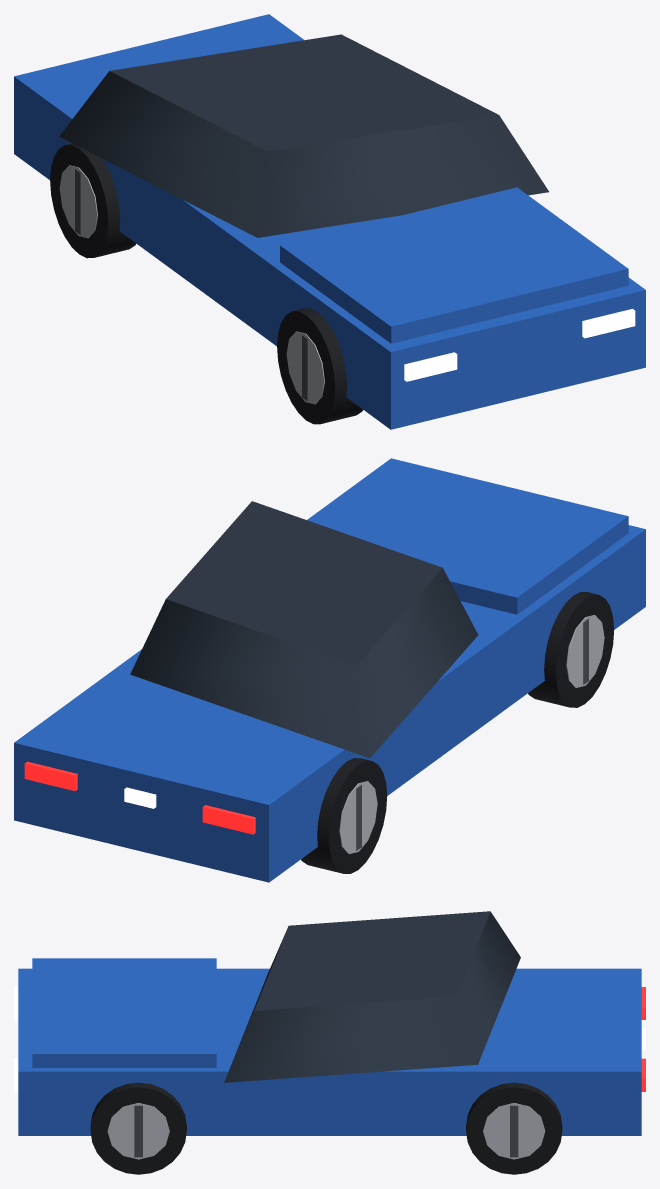
File: test-car.glb
The picture shows the model from 3 angles, top to bottom: view 1: azimuth 30°, elevation 25°; view 2: azimuth 150°, elevation 25°; view 3: azimuth 270°, elevation 25°; orthographic projection. The views are drawn at different scales.
Visible parts, largest first — view 1: Chassis, Wheel_Front_R, Wheel_Rear_R, Lamp_Head_R, Lamp_Head_L; view 2: Chassis, Wheel_Front_R, Wheel_Rear_R, Lamp_Brake_L, Lamp_Brake_R; view 3: Chassis, Wheel_Rear_L, Wheel_Front_L.
Boxes of the visible parts, x1,y1,x2,y2 form: Chassis: [14, 14, 645, 429]; Wheel_Front_R: [277, 308, 362, 424]; Wheel_Rear_R: [50, 143, 136, 258]; Lamp_Head_R: [404, 352, 457, 381]; Lamp_Head_L: [582, 309, 635, 338]; Chassis: [14, 458, 645, 882]; Wheel_Front_R: [528, 592, 613, 707]; Wheel_Rear_R: [301, 758, 387, 873]; Lamp_Brake_L: [24, 761, 77, 790]; Lamp_Brake_R: [202, 805, 255, 834]; Chassis: [18, 911, 641, 1135]; Wheel_Rear_L: [466, 1082, 562, 1174]; Wheel_Front_L: [90, 1082, 186, 1174].
Bounding box in the file's own units: 2.1 × 1.23 × 4.46.
